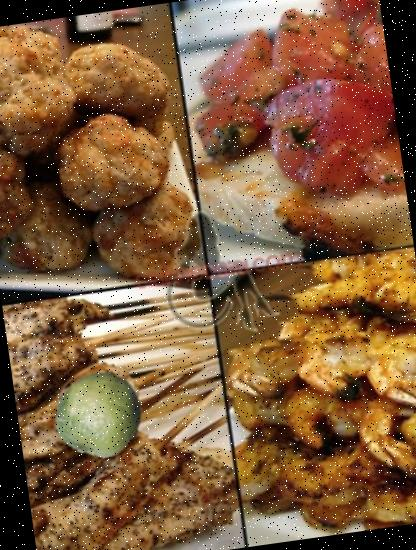Limes: (52, 366, 149, 463)
